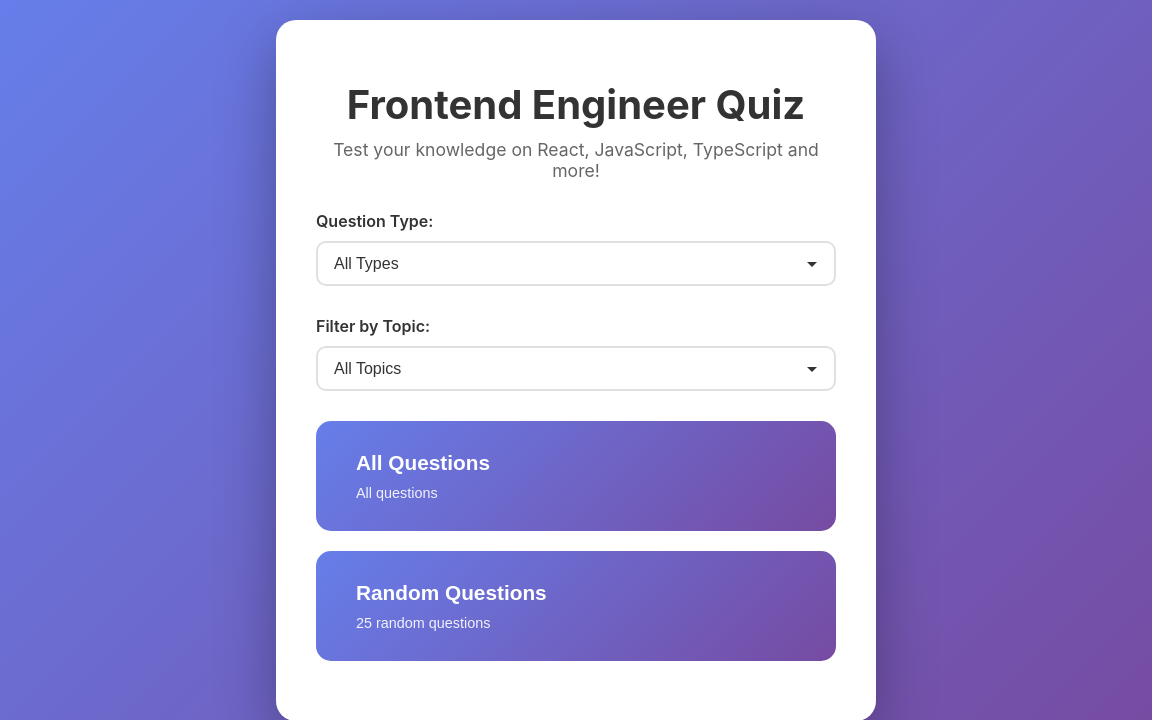
Test: App - question type filter › includes both types by default and counts coding tasks in the type picker
Click the button "All Questions All questions" at {"x": 423, "y": 462}, box x1=316 y1=421 x2=836 y2=531
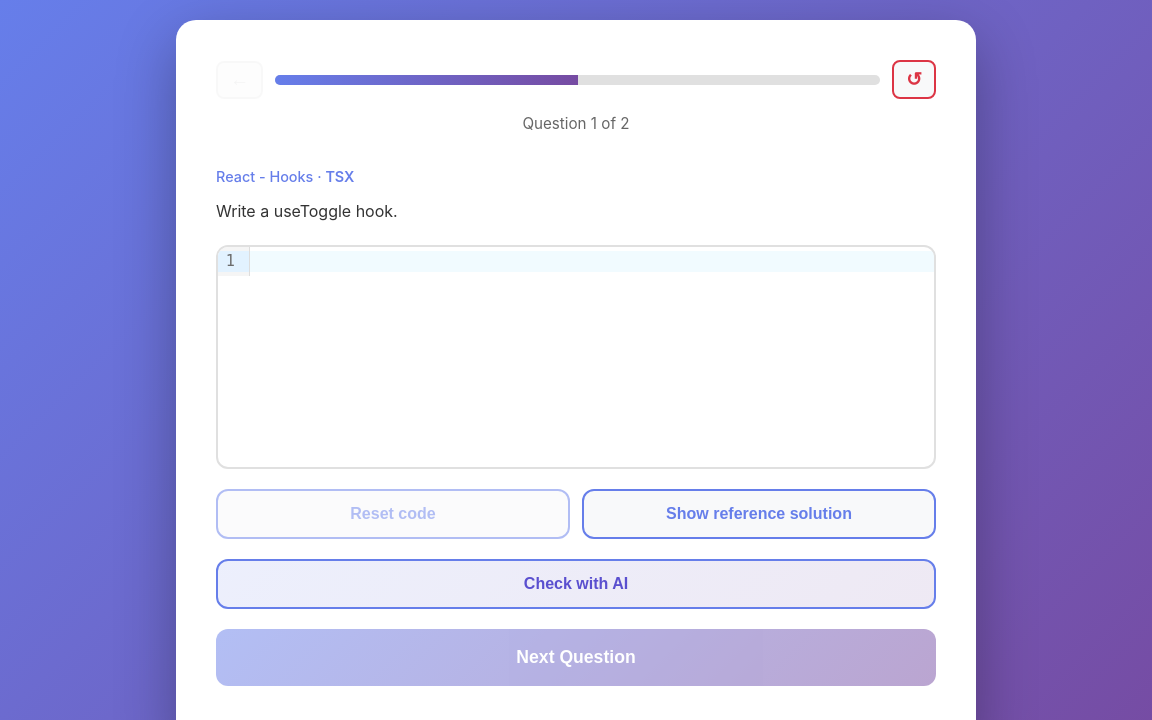
Now the text "Question 1 of 2" is shown, box x1=522 y1=114 x2=630 y2=133
